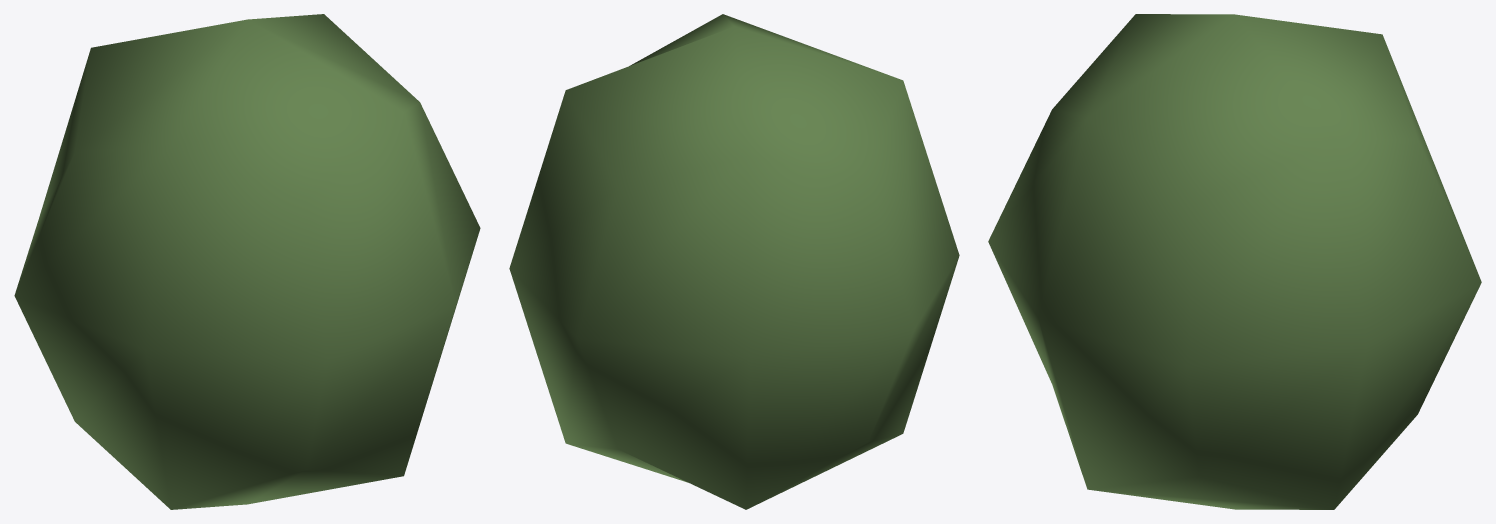
The model's file is atoll_Bush_02.fbx.
3 renders of one model, left to right at view 1: azimuth 30°, elevation 25°; view 2: azimuth 150°, elevation 25°; view 3: azimuth 270°, elevation 25°, orthographic. The views are drawn at different scales.
Parts seen in each view (by area): view 1: pasted__pCube3; view 2: pasted__pCube3; view 3: pasted__pCube3.
Boxes of the visible parts, x1,y1,x2,y2 form: pasted__pCube3: (14,14,480,509); pasted__pCube3: (509,14,959,509); pasted__pCube3: (988,14,1481,509).
Bounding box in the file's own units: 16.36 × 18.1 × 16.36.
